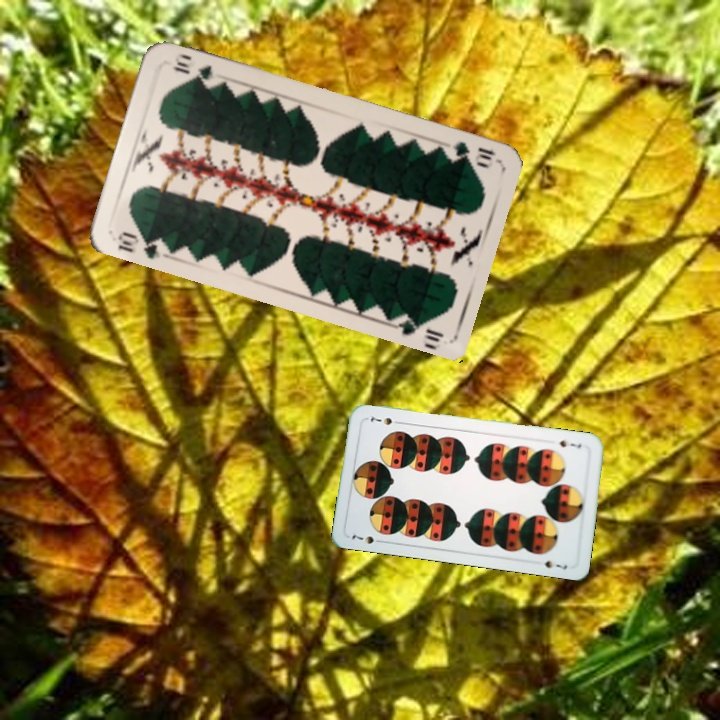G10: (114, 227, 170, 262), (449, 137, 498, 166)
S7: (348, 530, 386, 547), (556, 436, 584, 450)
